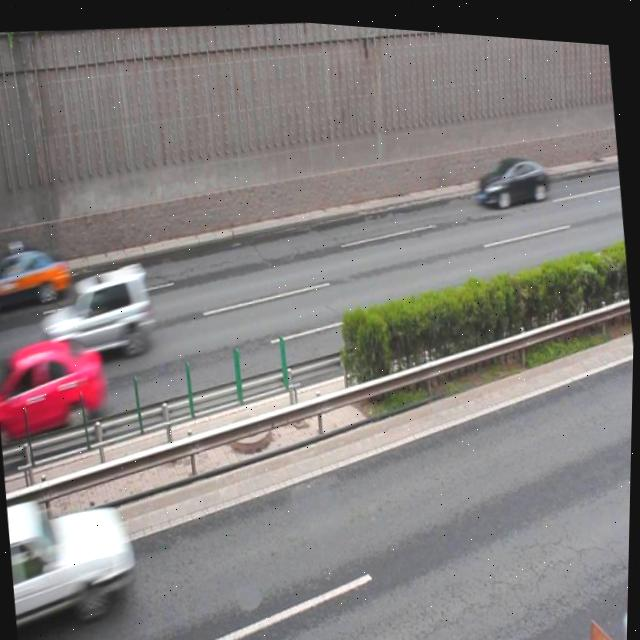car: (39, 252, 159, 366), (0, 332, 110, 444), (0, 237, 74, 317), (471, 139, 551, 208)
truck: (7, 490, 144, 632)
